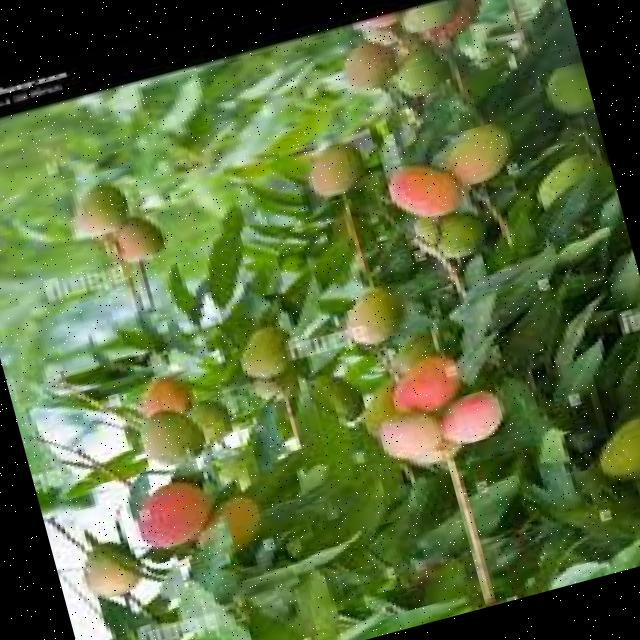mango: (378, 384, 502, 458)
